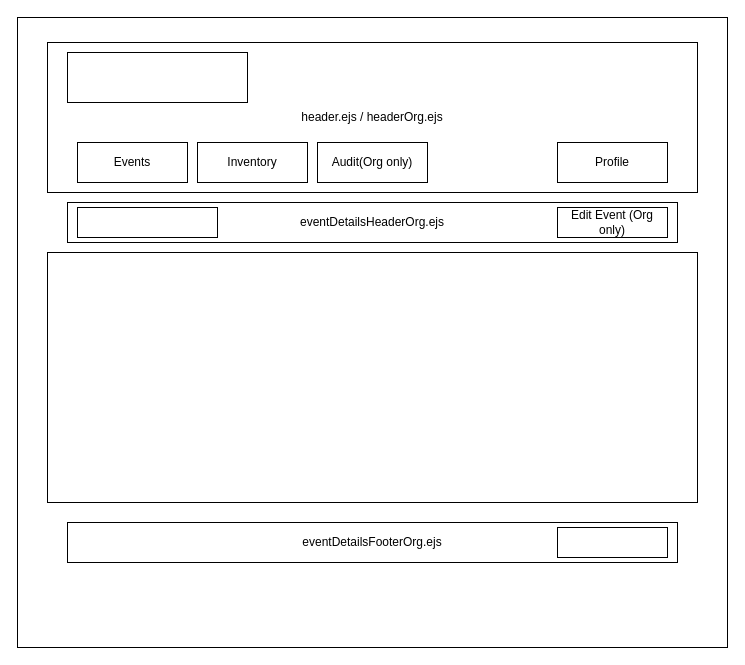
Image size: 745x665. Some labels were removed from this diagram. Each missing label, with the centre of its shape:
"AAP logo" goes at [157,77].
"Delete Event (Org only)" goes at [612,542].
"Event Sign-In (Org only)" goes at [147,222].
"eventDetailsView.ejs / eventDetailsViewOrg.ejs" goes at [372,377].
